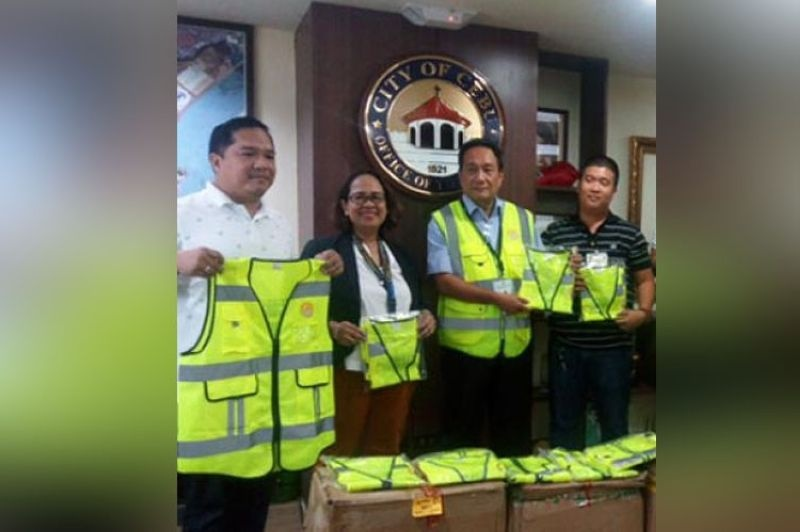person with full safety: (542, 155, 653, 445)
person with partial safety: (172, 110, 311, 532), (434, 142, 539, 451), (318, 172, 429, 453)
safety vest: (180, 256, 341, 473), (433, 194, 535, 360), (361, 311, 428, 388), (518, 252, 579, 319), (579, 265, 629, 324)
